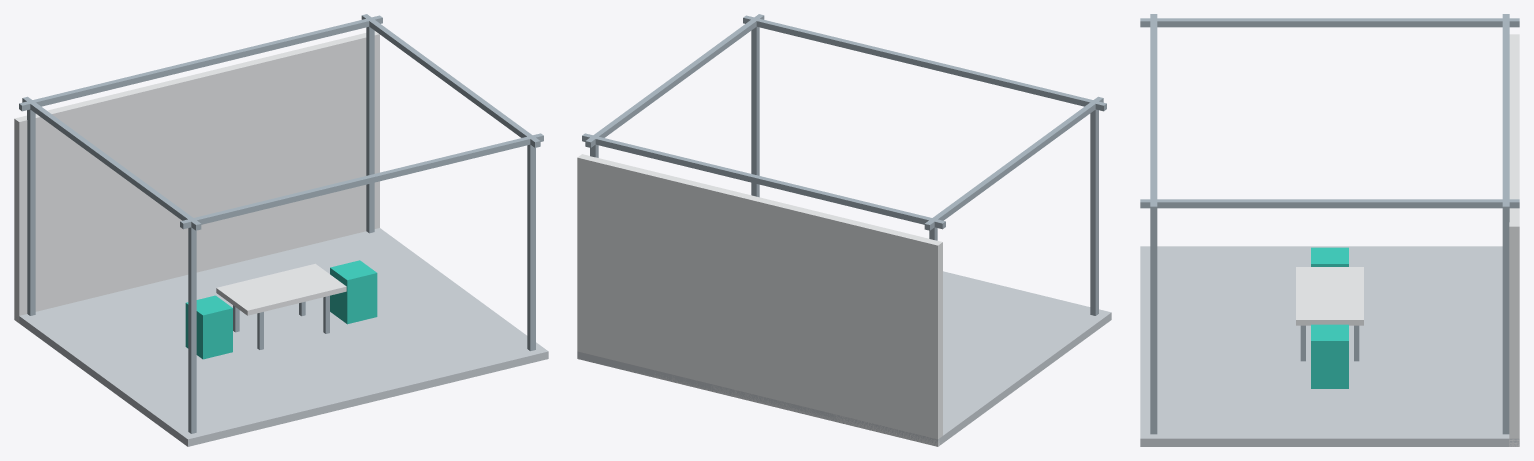
The picture shows the model from 3 angles, left to right: view 1: azimuth 30°, elevation 25°; view 2: azimuth 150°, elevation 25°; view 3: azimuth 270°, elevation 25°; orthographic projection. The views are drawn at different scales.
Parts seen in each view (by area): view 1: Exhibition Booth Concept; view 2: Exhibition Booth Concept; view 3: Exhibition Booth Concept.
Boxes of the visible parts, x1,y1,x2,y2 form: Exhibition Booth Concept: (14,14,548,446); Exhibition Booth Concept: (577,14,1111,446); Exhibition Booth Concept: (1140,14,1519,446).
Bounding box in the file's own units: 6 × 3.49 × 5.
